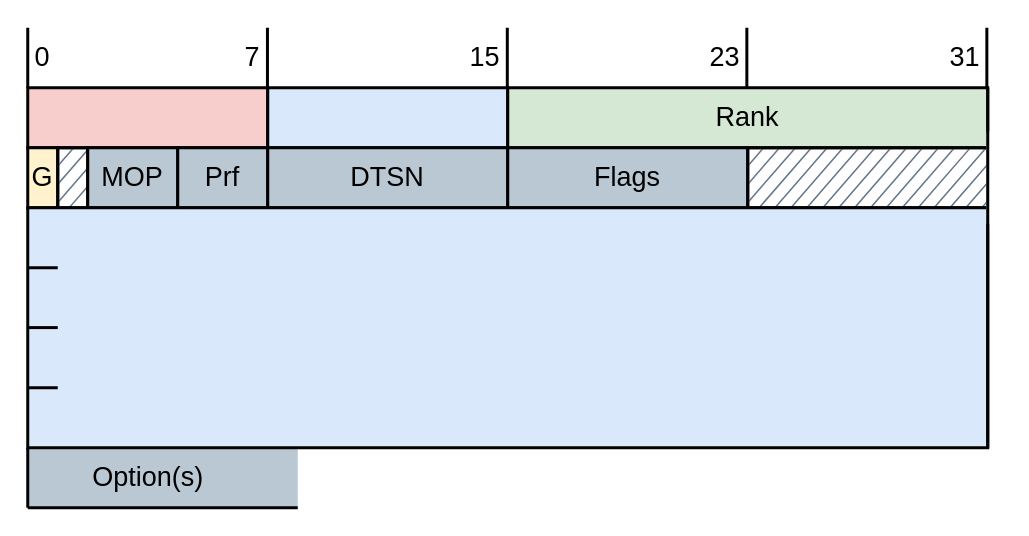
This 1029x536 diagram has some shape labels left out. The shapes that lost their labels are listed below. From the top down, each one's centre as x and y in pixels, then its label:
At (147,117): "InstanceID".
At (387,117): "Version Number".
At (507,327): "DODAGID".
